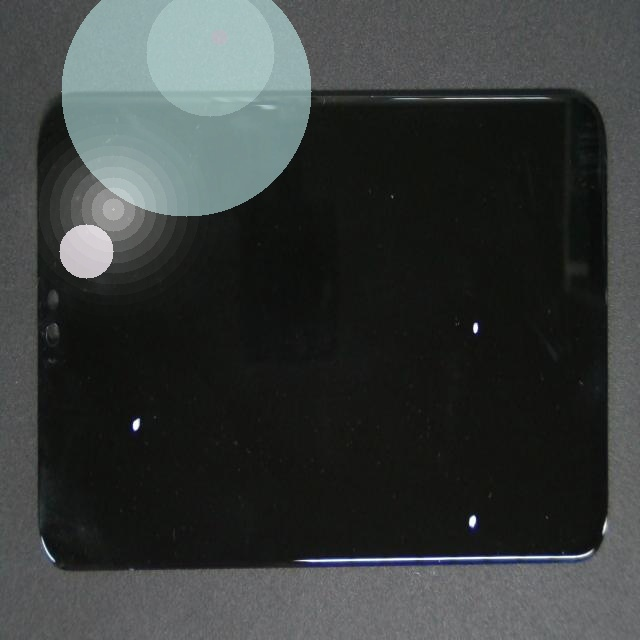stain: (248, 219, 640, 640), (242, 139, 640, 465), (68, 178, 194, 612)
